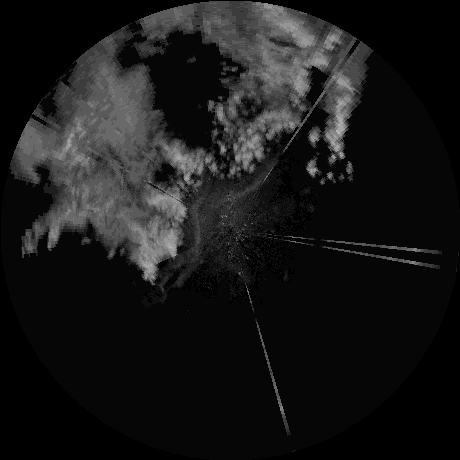frontgust: (159, 191, 206, 292), (216, 158, 277, 206)
